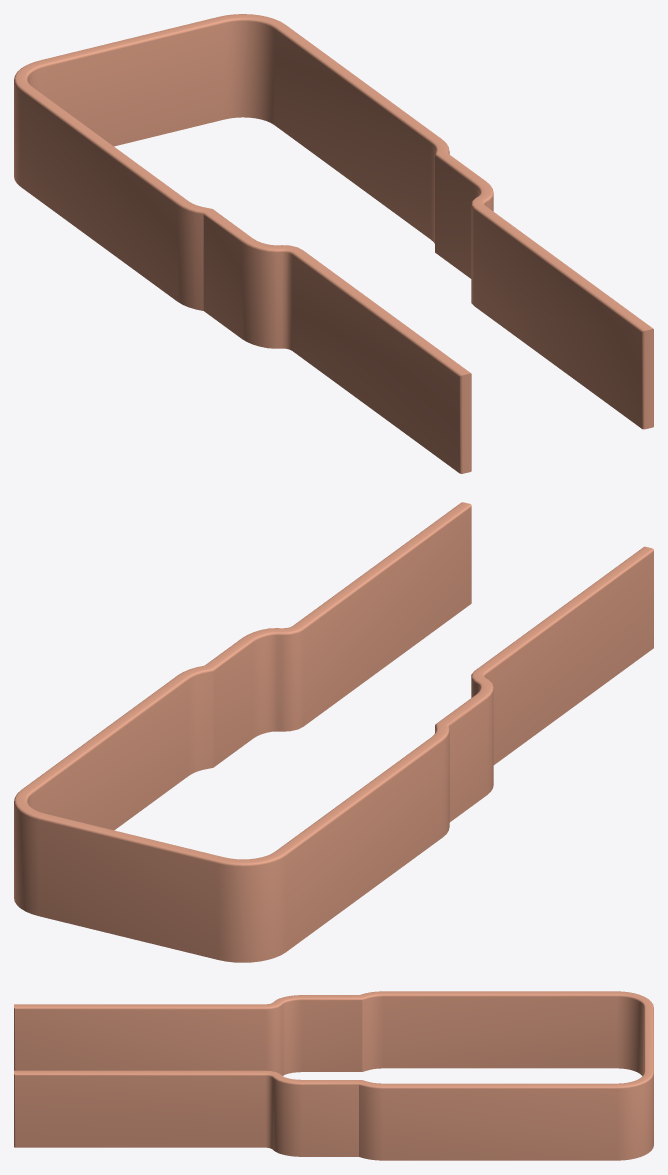
The model's file is map_4.fbx.
3 views of the same model, one above another, from view 1: azimuth 30°, elevation 25°; view 2: azimuth 150°, elevation 25°; view 3: azimuth 270°, elevation 25° (orthographic). The views are drawn at different scales.
Parts seen in each view (by area): view 1: map_4; view 2: map_4; view 3: map_4.
Part boxes in pixels (x1,y1,x2,y2): map_4: (14,14,653,473); map_4: (14,502,653,962); map_4: (14,991,653,1160).
Size of the model in its own units: 1810 by 642 by 5074.
